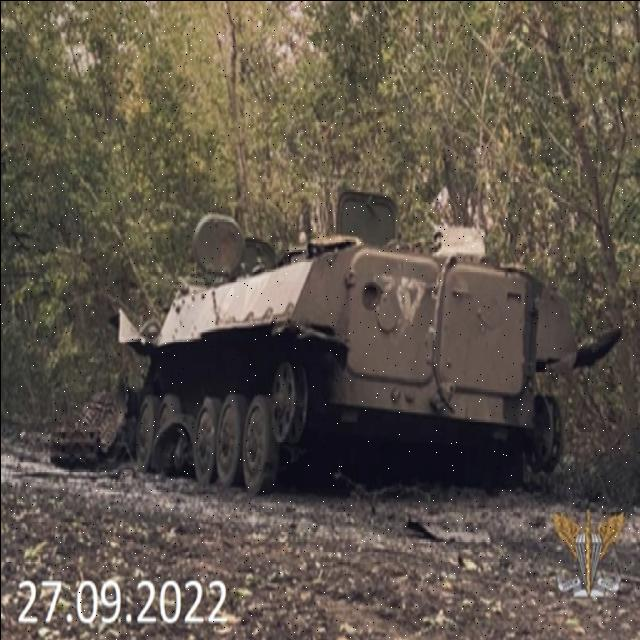APC-IFV: (122, 180, 578, 509)
